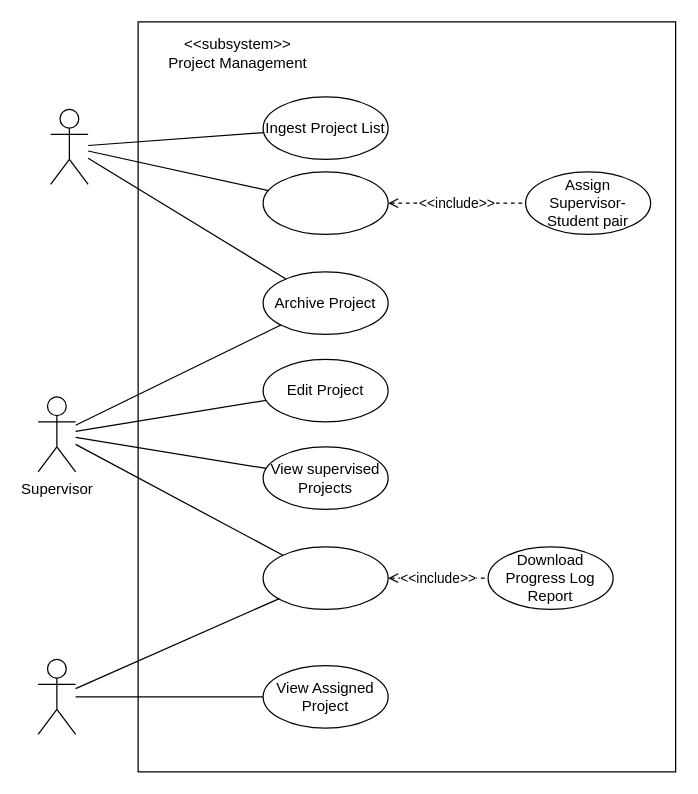
Image size: 698x794. Some labels were removed from this diagram. The shapes that lost their labels are listed below. From the top down, each one's centre as x and y in pixels, then its label:
point (68, 146): Administrator
point (325, 202): Create Project
point (325, 577): Generate Progress Log Report
point (56, 696): Student
